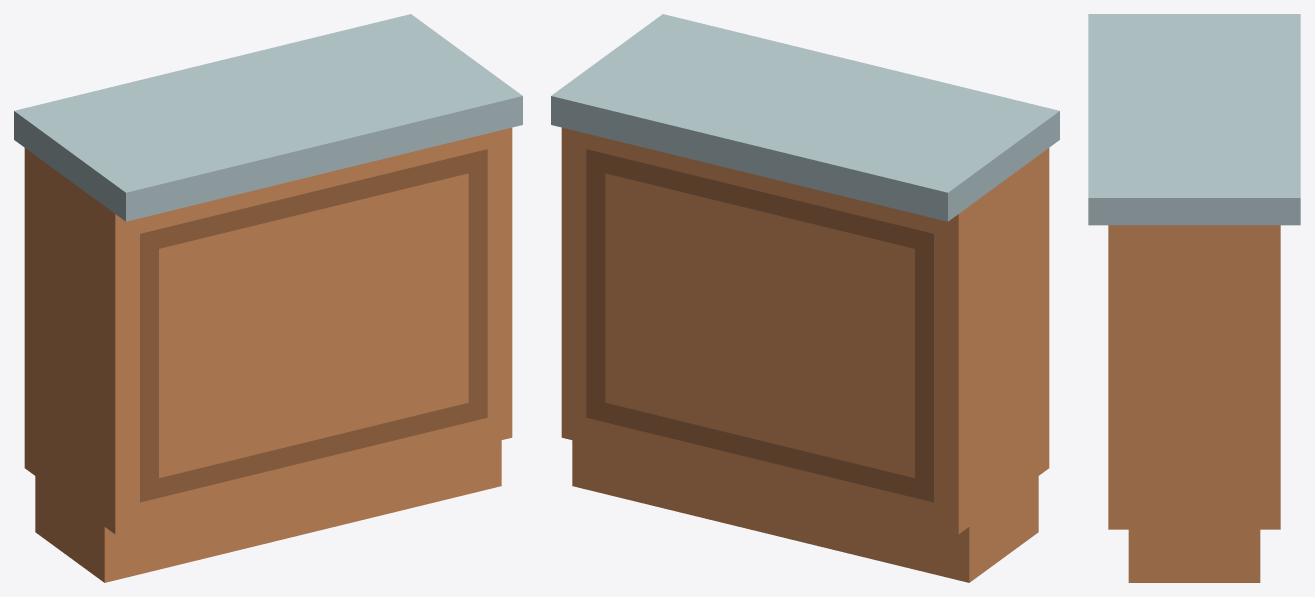
Rendered from BarCounter-transformed.glb.
3 renders of one model, left to right at view 1: azimuth 30°, elevation 25°; view 2: azimuth 150°, elevation 25°; view 3: azimuth 270°, elevation 25°, orthographic. The views are drawn at different scales.
Parts seen in each view (by area): view 1: kitchenBar; view 2: kitchenBar; view 3: kitchenBar.
Part boxes in pixels (x1,y1,x2,y2): kitchenBar: [14, 14, 522, 582]; kitchenBar: [551, 14, 1059, 582]; kitchenBar: [1088, 14, 1300, 582].
Size of the model in its own units: 0.43 by 0.42 by 0.21.
